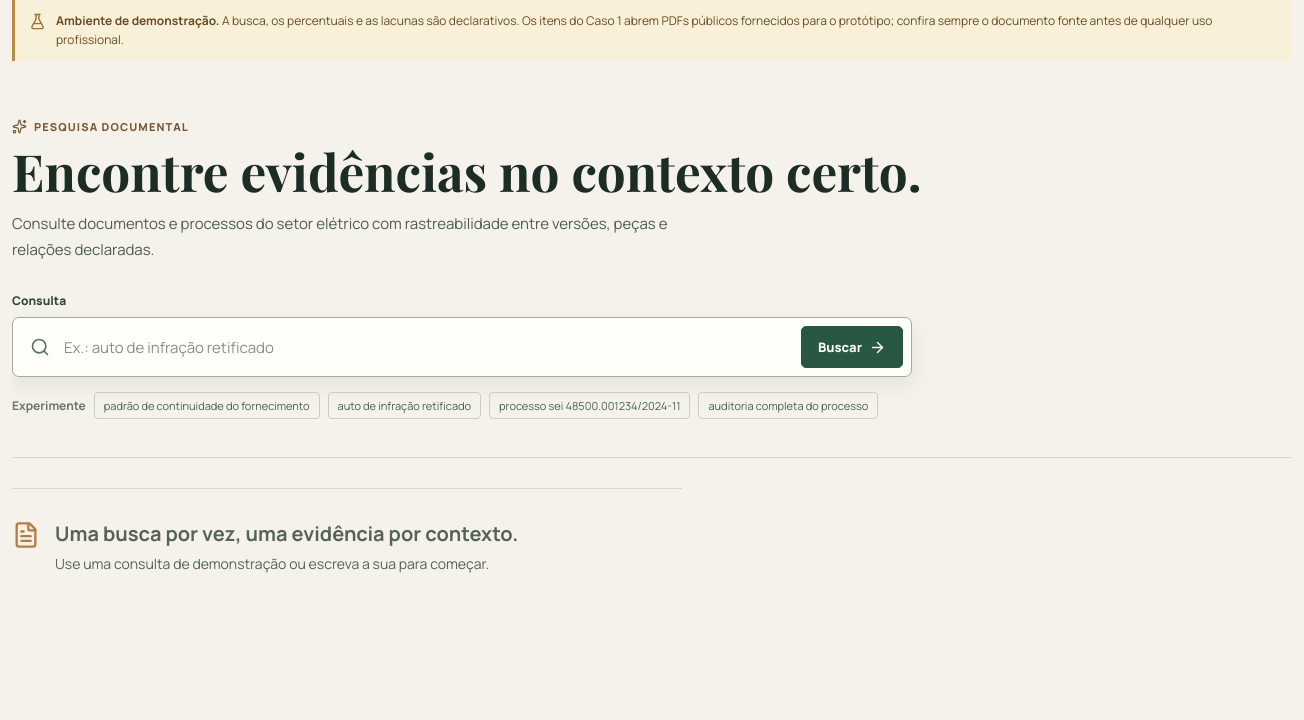
it: SearchPage › mostra um card por chunk casado, sem agrupar trechos da mesma peça, e a contagem vem de total
The image size is (1304, 720).
Step 1. Click the button "auto de infração retificado" → (404, 406), box [328,392,481,420]
(page scrolled)
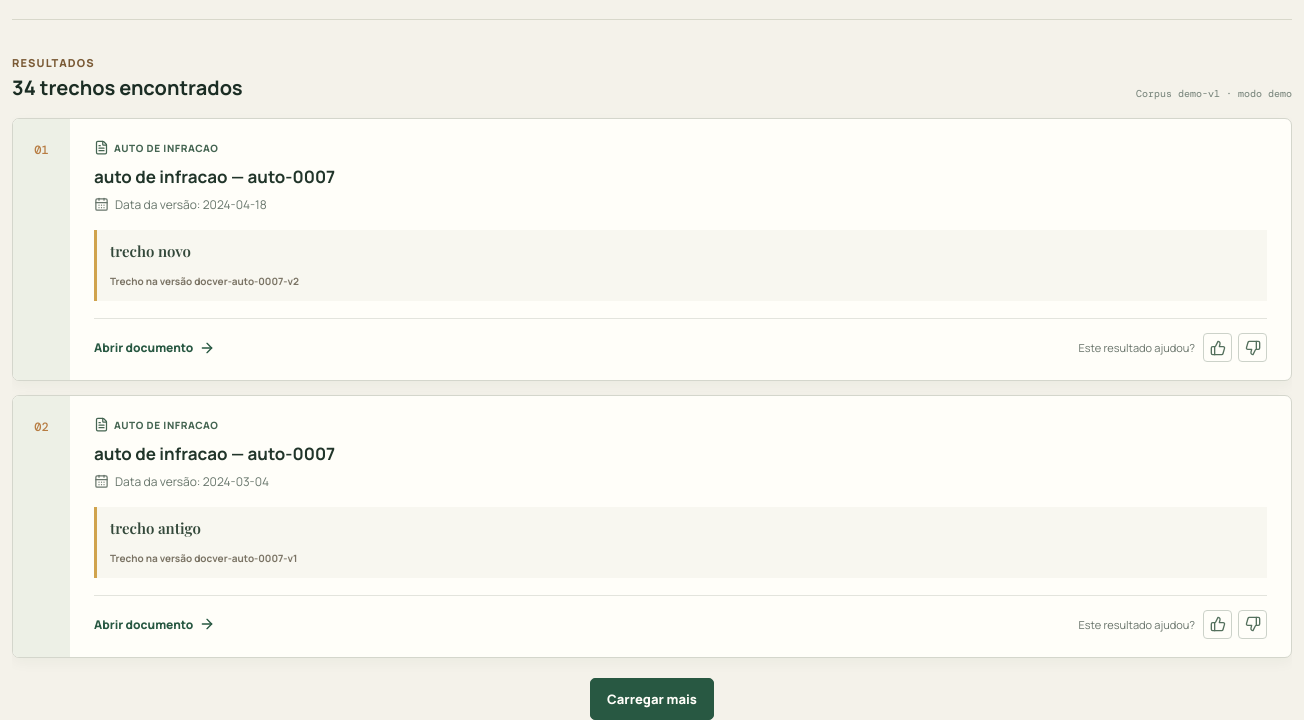
Check: the text "trecho novo" is shown, box [110,242,191,262]
Check: the text "trecho antigo" is shown, box [110,518,201,538]
Check: the heading "34 trechos encontrados" is shown, box [12,76,243,100]
